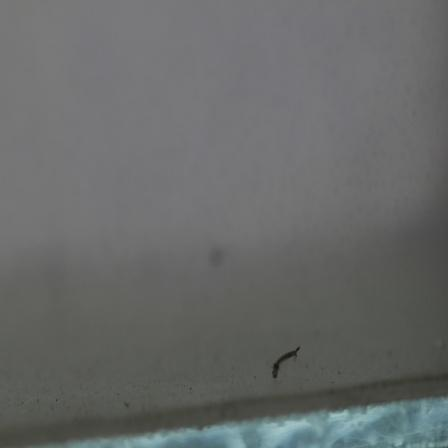Jentik-Nyamuk: (265, 343, 305, 383)
